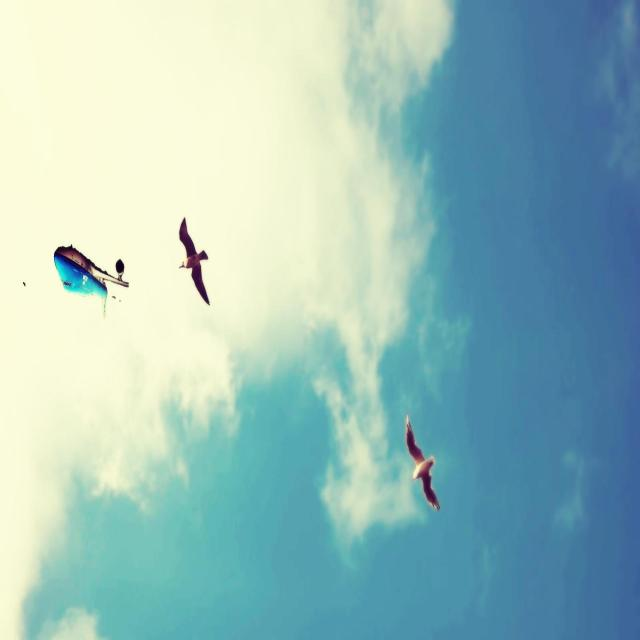airplane: (53, 244, 129, 318)
